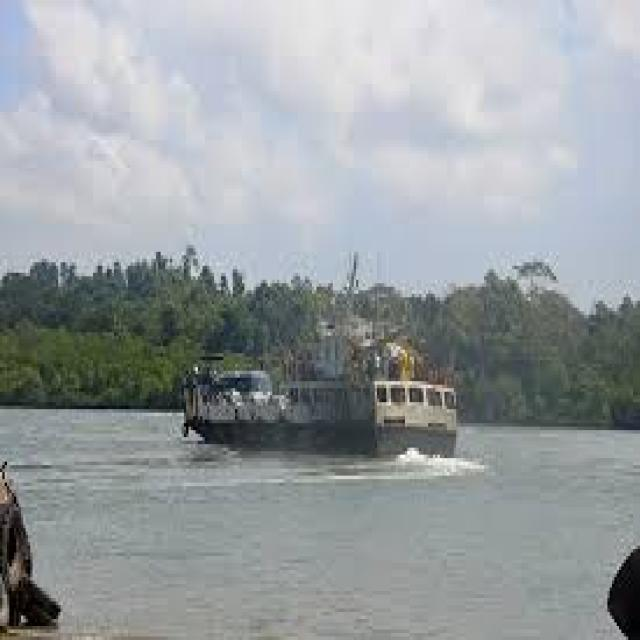fishing boat: (179, 298, 463, 465)
